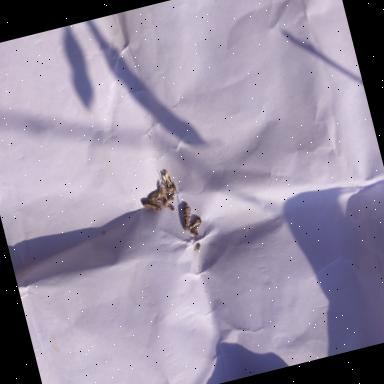pbw: (178, 202, 195, 231), (160, 168, 176, 196), (141, 196, 163, 214), (186, 216, 204, 234), (145, 186, 162, 201)
